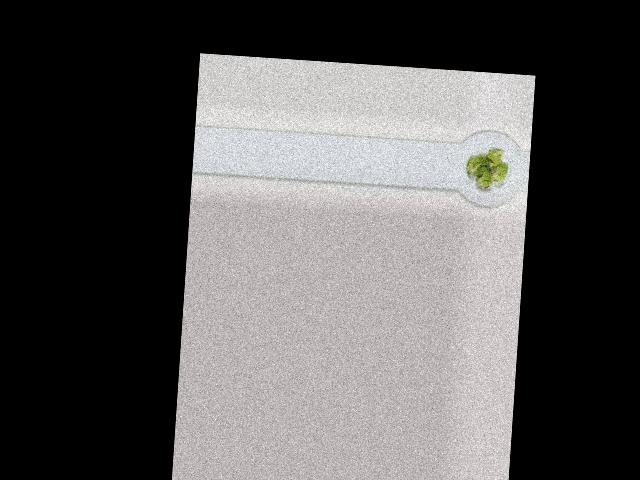lettuce: (461, 145, 508, 191)
